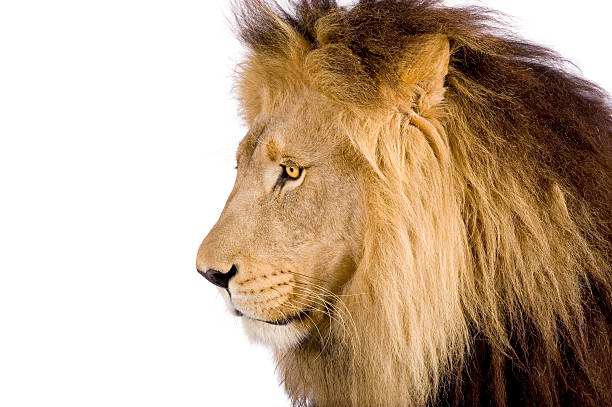lion: (177, 3, 600, 407)
